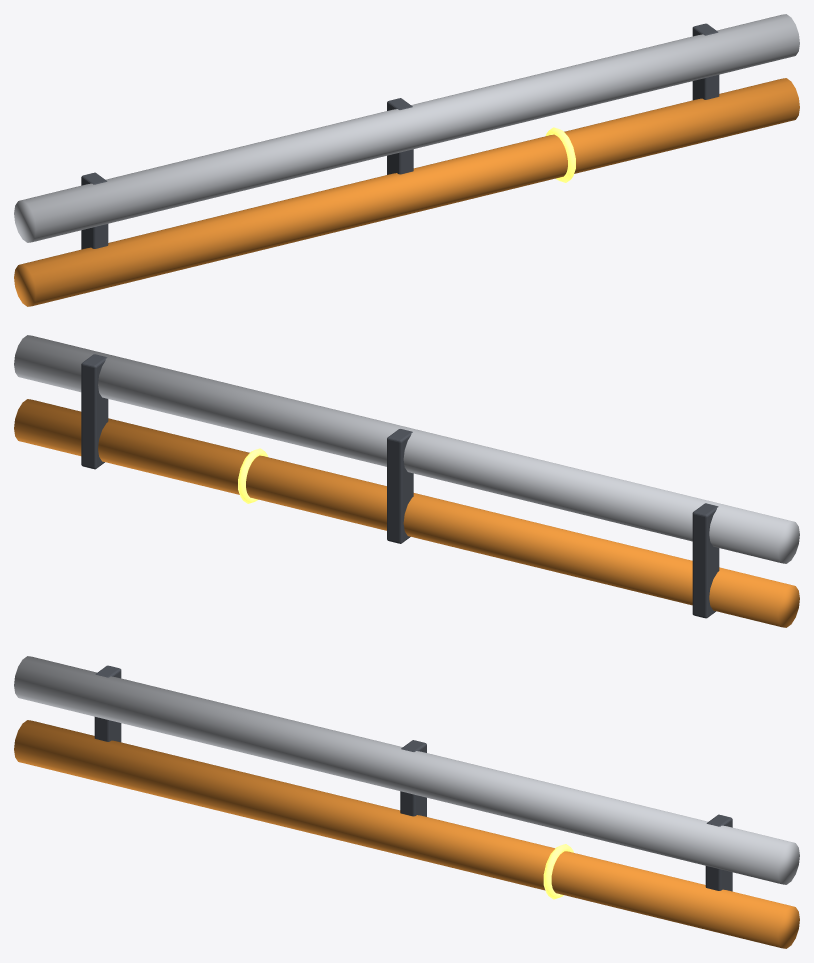
File: pipe_run_horizontal_pair.glb
3 renders of one model, top to bottom at view 1: azimuth 30°, elevation 25°; view 2: azimuth 150°, elevation 25°; view 3: azimuth 330°, elevation 25°, orthographic.
Parts seen in each view (by area): view 1: GD_pipe_run_horizontal_pair__m1, GD_pipe_run_horizontal_pair__m0, GD_pipe_run_horizontal_pair__m2, GD_pipe_run_horizontal_pair__m3; view 2: GD_pipe_run_horizontal_pair__m1, GD_pipe_run_horizontal_pair__m0, GD_pipe_run_horizontal_pair__m2, GD_pipe_run_horizontal_pair__m3; view 3: GD_pipe_run_horizontal_pair__m1, GD_pipe_run_horizontal_pair__m0, GD_pipe_run_horizontal_pair__m2, GD_pipe_run_horizontal_pair__m3.
Part boxes in pixels (box(x1,y1,x2,y2)): GD_pipe_run_horizontal_pair__m1: box(14, 14, 799, 242); GD_pipe_run_horizontal_pair__m0: box(14, 78, 799, 306); GD_pipe_run_horizontal_pair__m2: box(81, 23, 719, 249); GD_pipe_run_horizontal_pair__m3: box(545, 127, 575, 182); GD_pipe_run_horizontal_pair__m1: box(14, 335, 799, 563); GD_pipe_run_horizontal_pair__m0: box(14, 399, 799, 627); GD_pipe_run_horizontal_pair__m2: box(81, 354, 719, 618); GD_pipe_run_horizontal_pair__m3: box(238, 448, 268, 503); GD_pipe_run_horizontal_pair__m1: box(14, 656, 799, 884); GD_pipe_run_horizontal_pair__m0: box(14, 720, 799, 948); GD_pipe_run_horizontal_pair__m2: box(94, 665, 732, 891); GD_pipe_run_horizontal_pair__m3: box(543, 844, 573, 899).
Bounding box in the file's own units: 2 × 0.275 × 0.1267.
